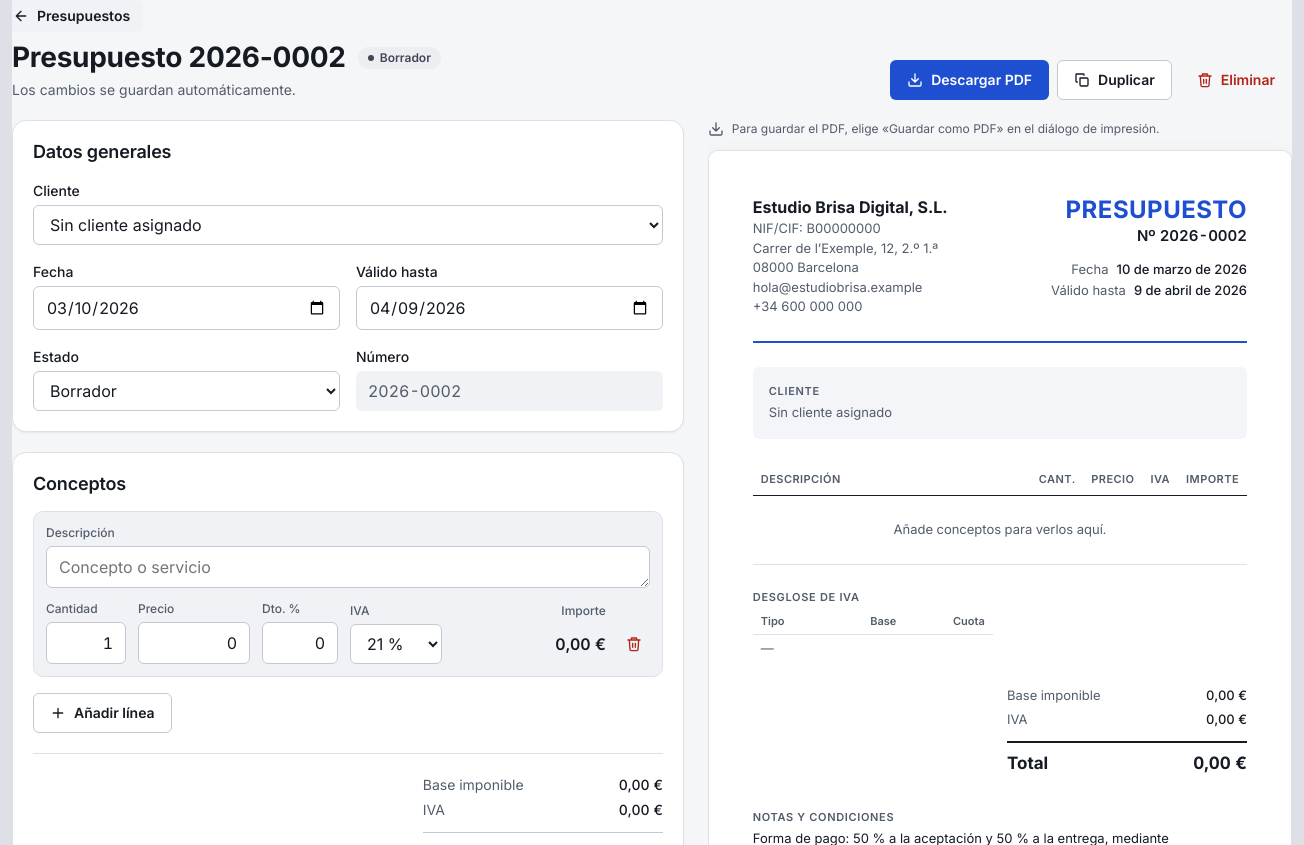
Test: QuoteEditorPage › removes a line
Click the button named "Eliminar línea 1" at (634, 644), box [618,628,650,660]
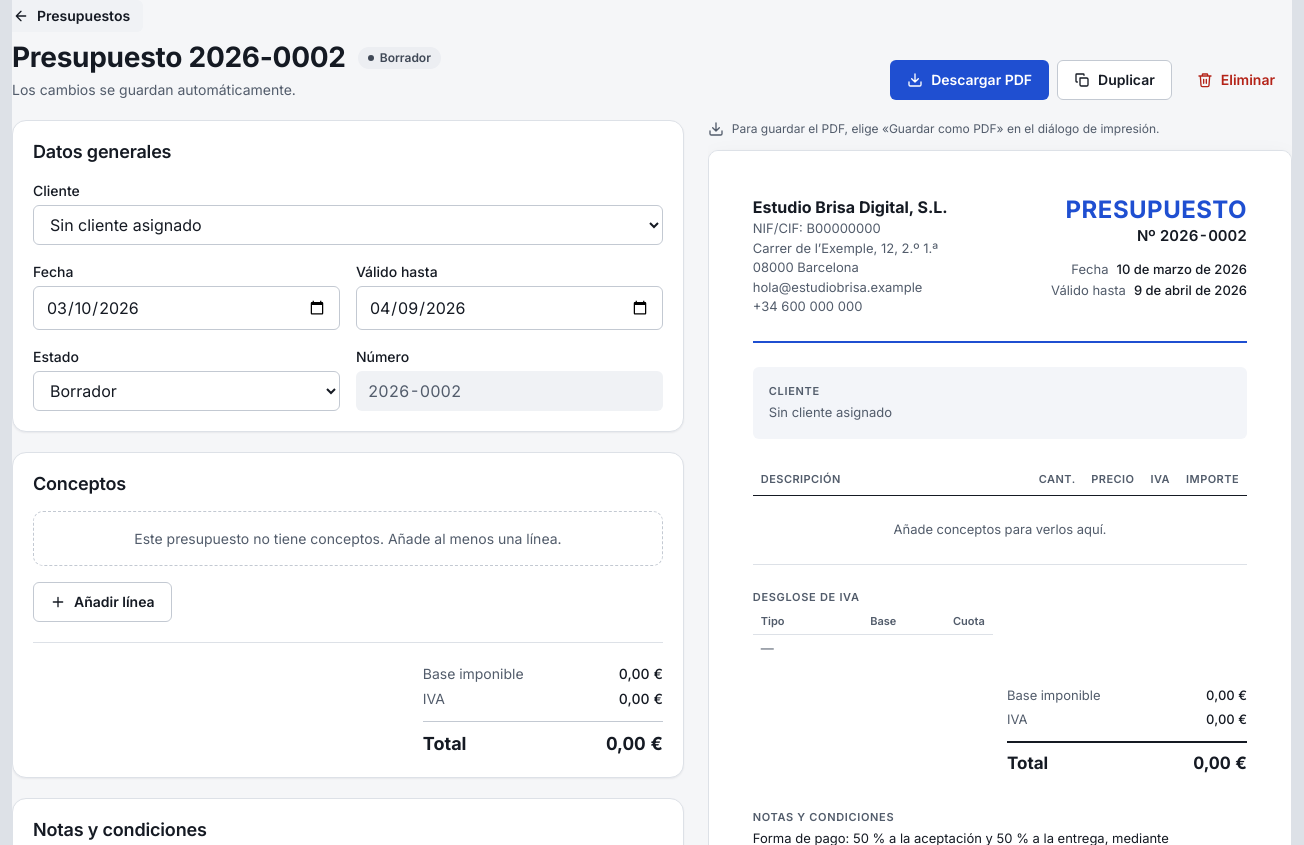
Expected: the field labelled "Descripción (línea" is not shown
Expected: the text "no tiene conceptos" is shown, [134,530,562,547]
